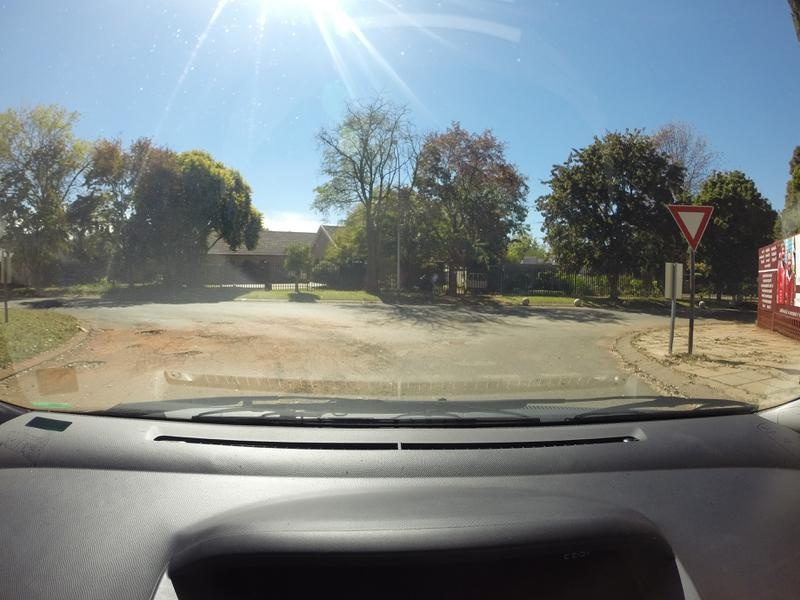pothole: (64, 355, 99, 383), (164, 344, 201, 363), (193, 327, 222, 341), (136, 326, 163, 340)
